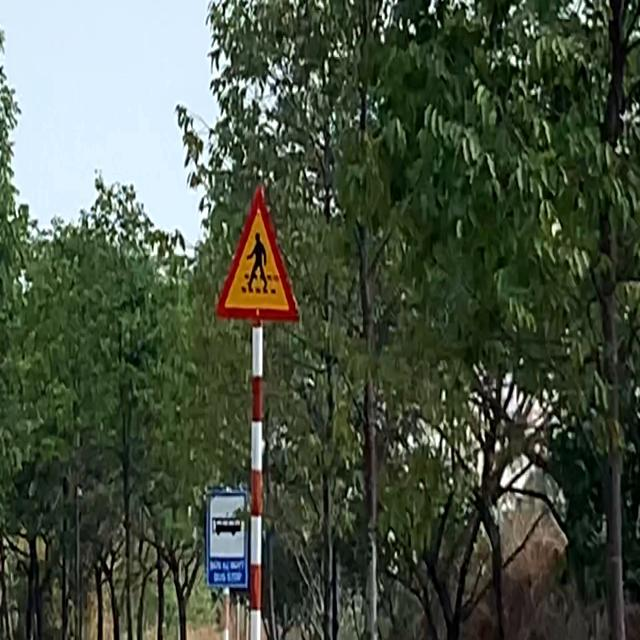Nguoi di bo cat ngang: (212, 175, 303, 332)
